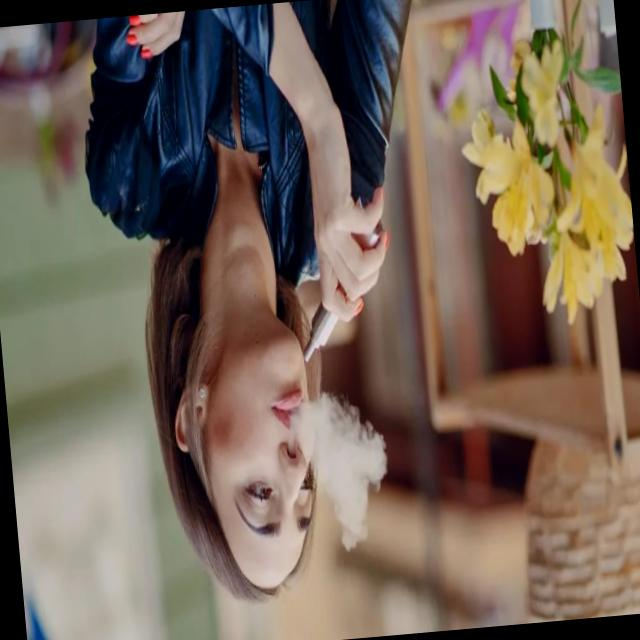smoke: (288, 206, 396, 367)
